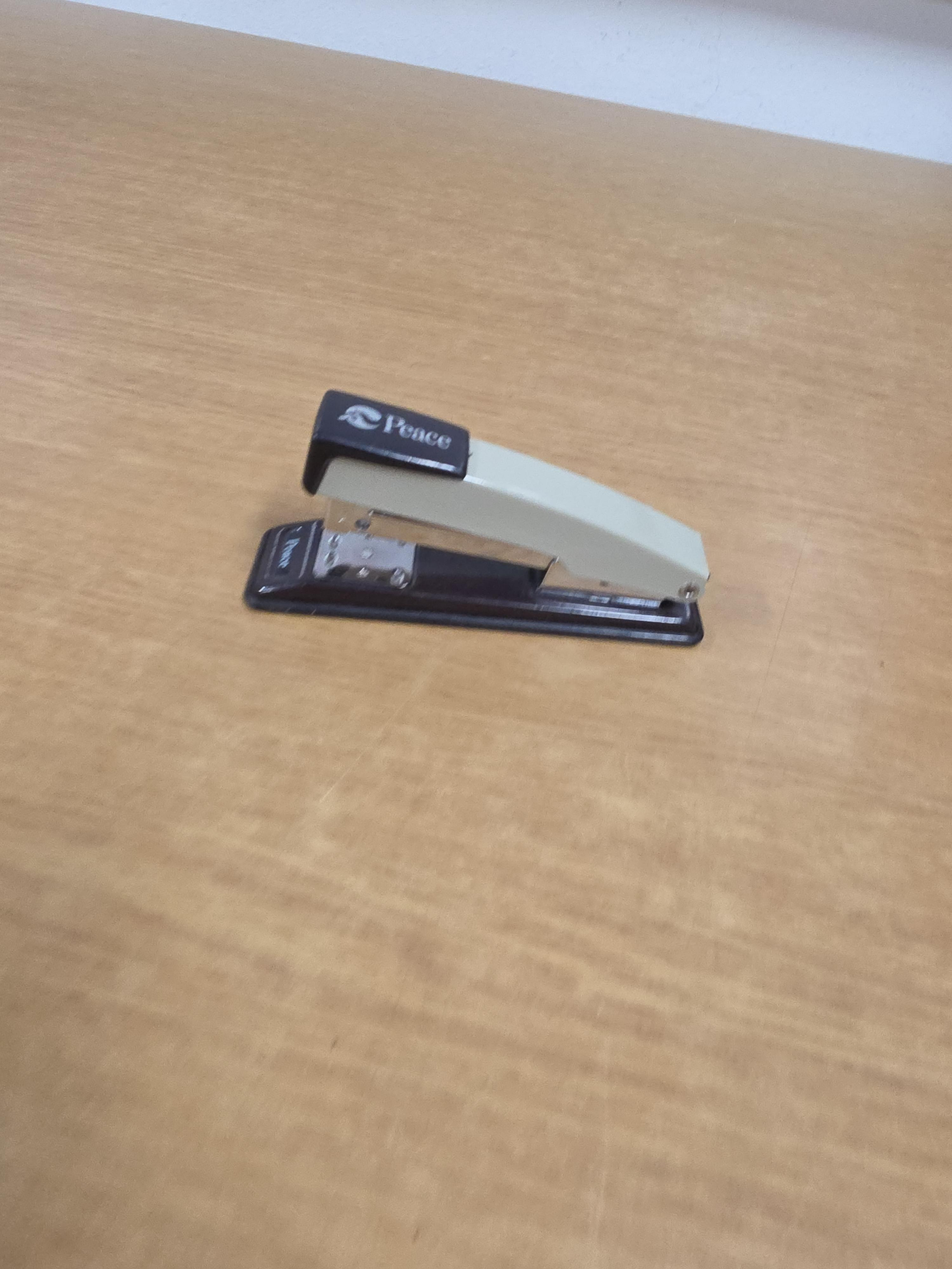stapler: (244, 390, 711, 648)
